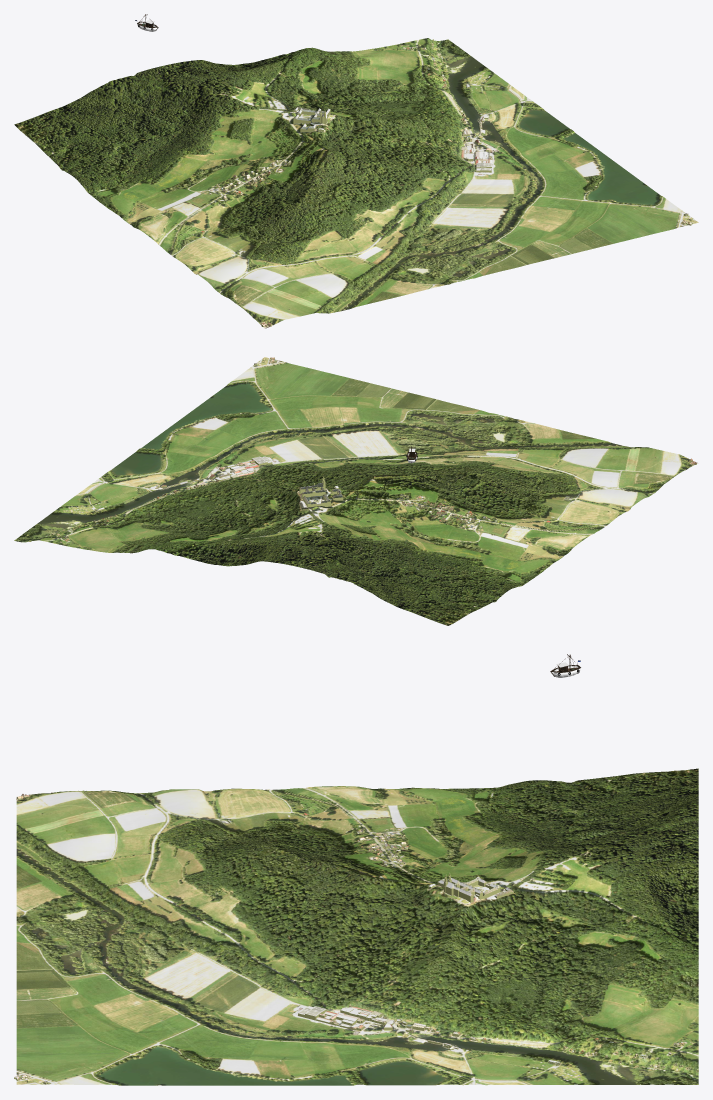
The model's file is asset.glb.
3 views of the same model, one above another, from view 1: azimuth 30°, elevation 25°; view 2: azimuth 150°, elevation 25°; view 3: azimuth 270°, elevation 25° (orthographic). The views are drawn at different scales.
Parts seen in each view (by area): view 1: KlosterBanz, Dach, Wand; view 2: KlosterBanz, Dach, Wand; view 3: KlosterBanz, Dach, Wand.
Part boxes in pixels (<box>): KlosterBanz: <box>14,38,698,328</box>; Dach: <box>201,39,692,326</box>; Wand: <box>201,39,693,326</box>; KlosterBanz: <box>14,357,698,625</box>; Dach: <box>29,357,696,541</box>; Wand: <box>28,358,696,542</box>; KlosterBanz: <box>16,768,698,1085</box>; Dach: <box>14,792,698,1083</box>; Wand: <box>14,795,698,1084</box>.
Bounding box in the file's own units: 1996 × 643 × 2003.
14 materials, 2 textured.
